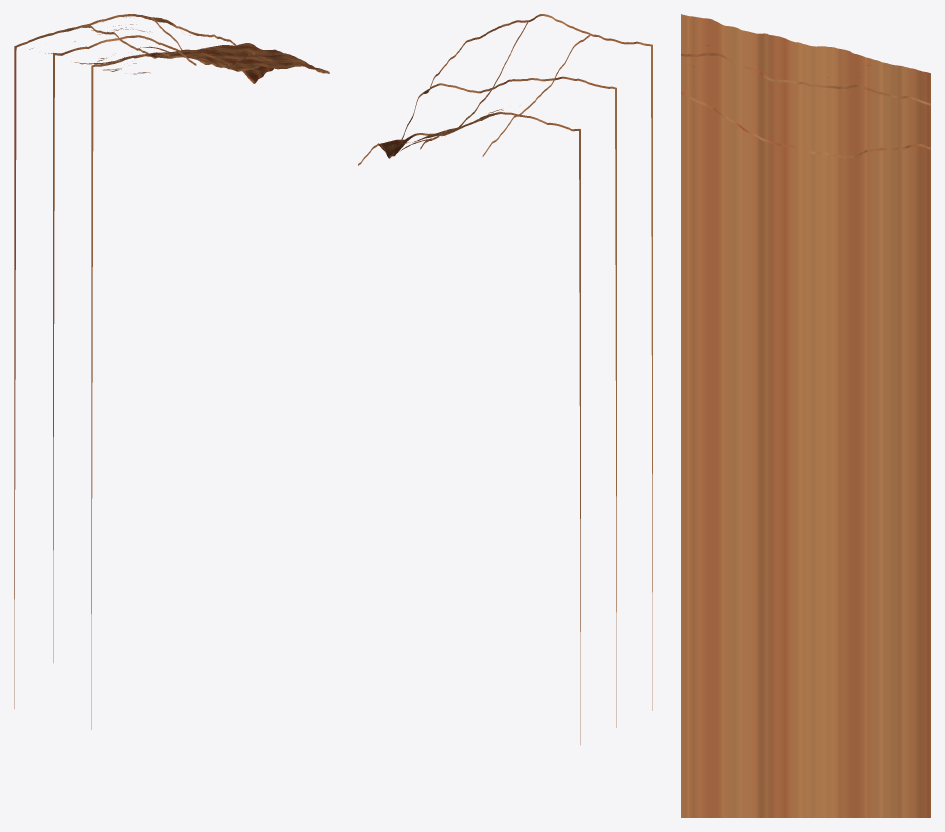
File: terrain-025.glb
The picture shows the model from 3 angles, left to right: view 1: azimuth 30°, elevation 25°; view 2: azimuth 150°, elevation 25°; view 3: azimuth 270°, elevation 25°; orthographic projection. The views are drawn at different scales.
Visible parts, largest first — view 1: terrain-025; view 2: terrain-025; view 3: terrain-025.
Part boxes in pixels (x1=…): terrain-025: x1=14, y1=14, x2=329, y2=729; terrain-025: x1=358, y1=14, x2=652, y2=744; terrain-025: x1=681, y1=14, x2=930, y2=817.
Bounding box in the file's own units: 384 × 1371 × 384.
